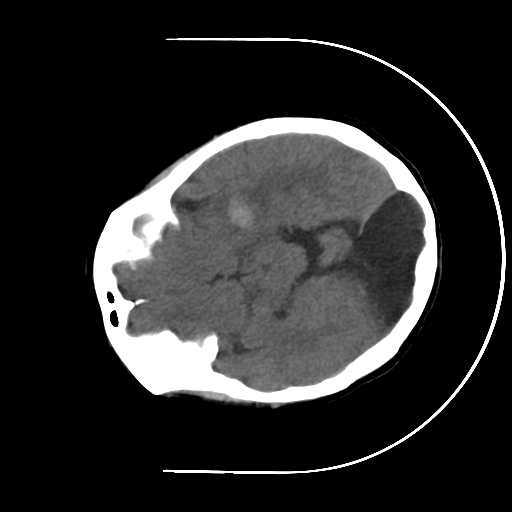a: (203, 166, 280, 244)
